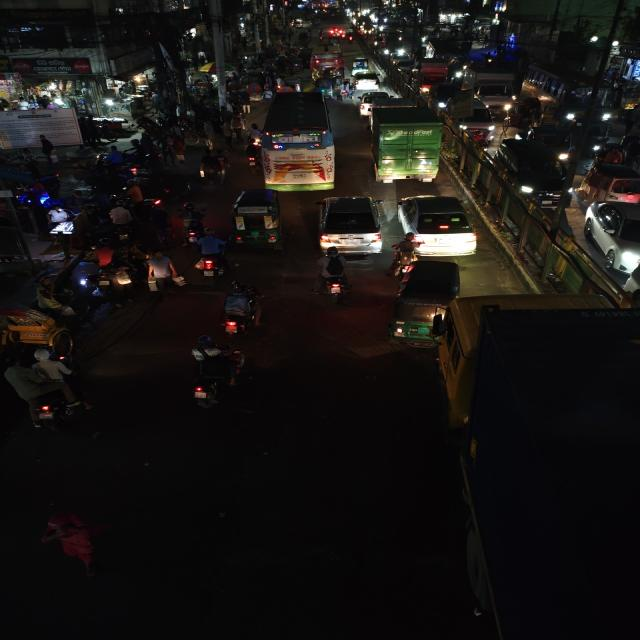bus: (256, 89, 341, 191), (523, 61, 614, 120)
car: (493, 138, 574, 206), (394, 192, 478, 255), (582, 198, 640, 283), (313, 193, 386, 255), (456, 108, 499, 142), (355, 91, 405, 111), (351, 71, 382, 91)
cng: (384, 259, 464, 351), (229, 187, 285, 251), (578, 163, 640, 204), (587, 122, 612, 152), (350, 56, 371, 74)
motorcycle: (4, 354, 89, 433), (185, 342, 249, 416), (217, 282, 266, 338), (88, 242, 136, 296), (312, 246, 352, 304), (187, 230, 230, 281), (105, 202, 137, 248), (175, 202, 210, 244), (390, 233, 421, 276), (197, 149, 228, 188), (243, 142, 263, 170)
pedestrian: (142, 251, 178, 296)
pickup_van: (529, 124, 578, 163)
rickshaw: (1, 300, 92, 358)
truck: (439, 292, 640, 636), (363, 104, 443, 184), (469, 61, 520, 111), (414, 58, 457, 92)
